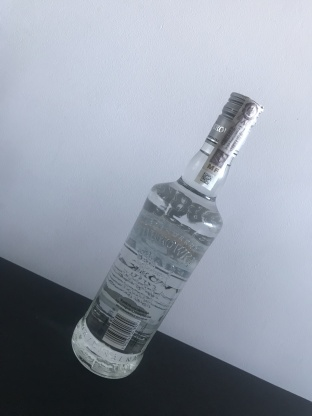nakretka: (203, 88, 265, 161)
